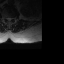CCS_normal: (8, 15, 10, 22)
LFS_stenosis: (12, 15, 13, 21)
LLS_stenosis: (10, 15, 12, 22)
RFS_normal: (4, 15, 6, 20)
RLS_normal: (6, 15, 8, 21)
